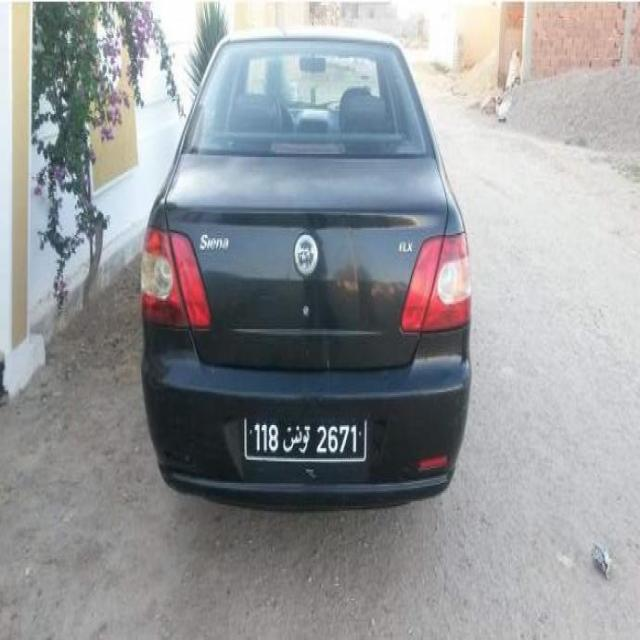LP: (242, 412, 367, 463)
